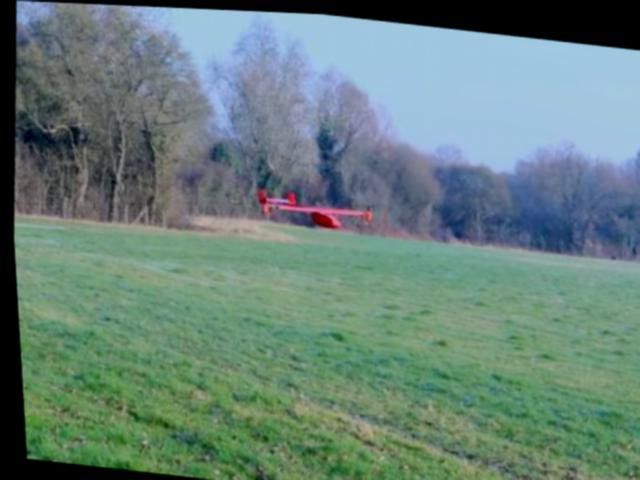uav: (245, 185, 381, 237)
